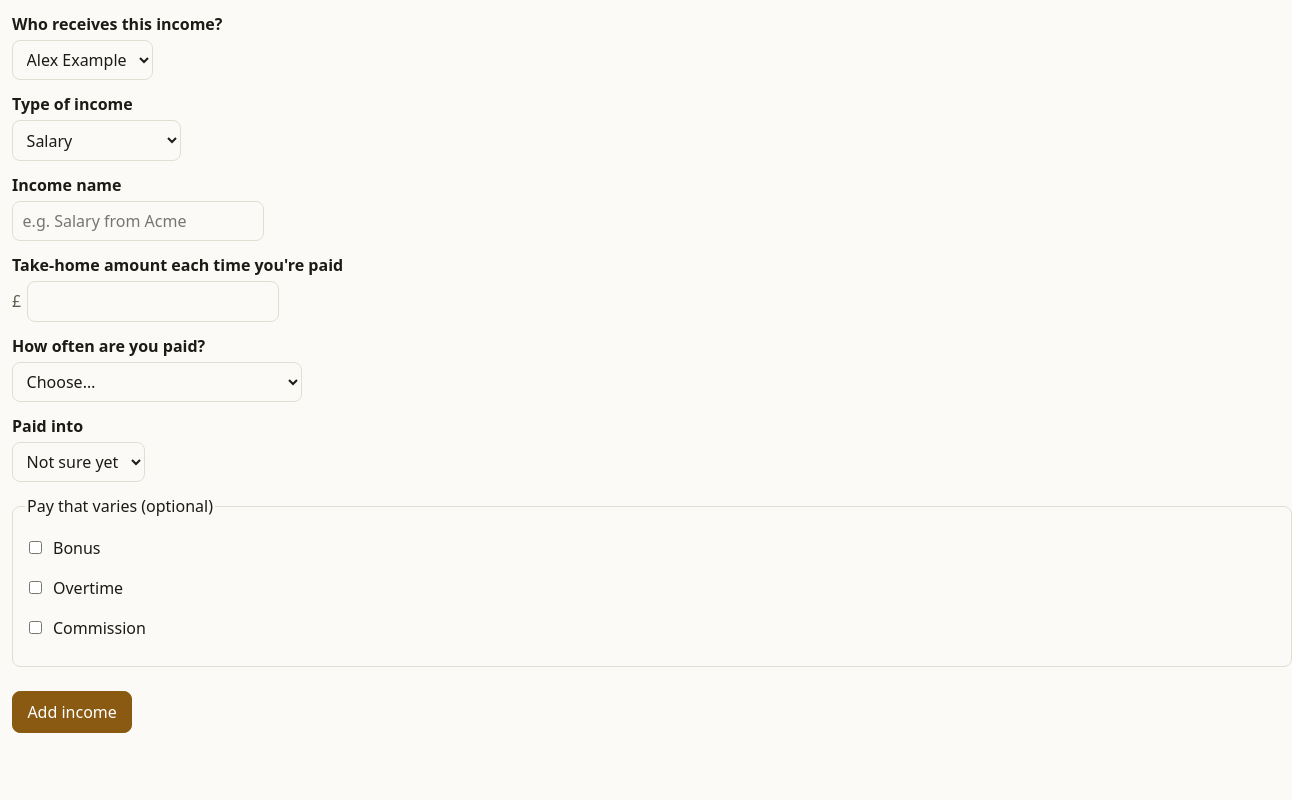
Test: does not send an income with no pay schedule
Type "Salary" into the field labelled "Income name". click: (138,221)
box: [12, 201, 264, 241]
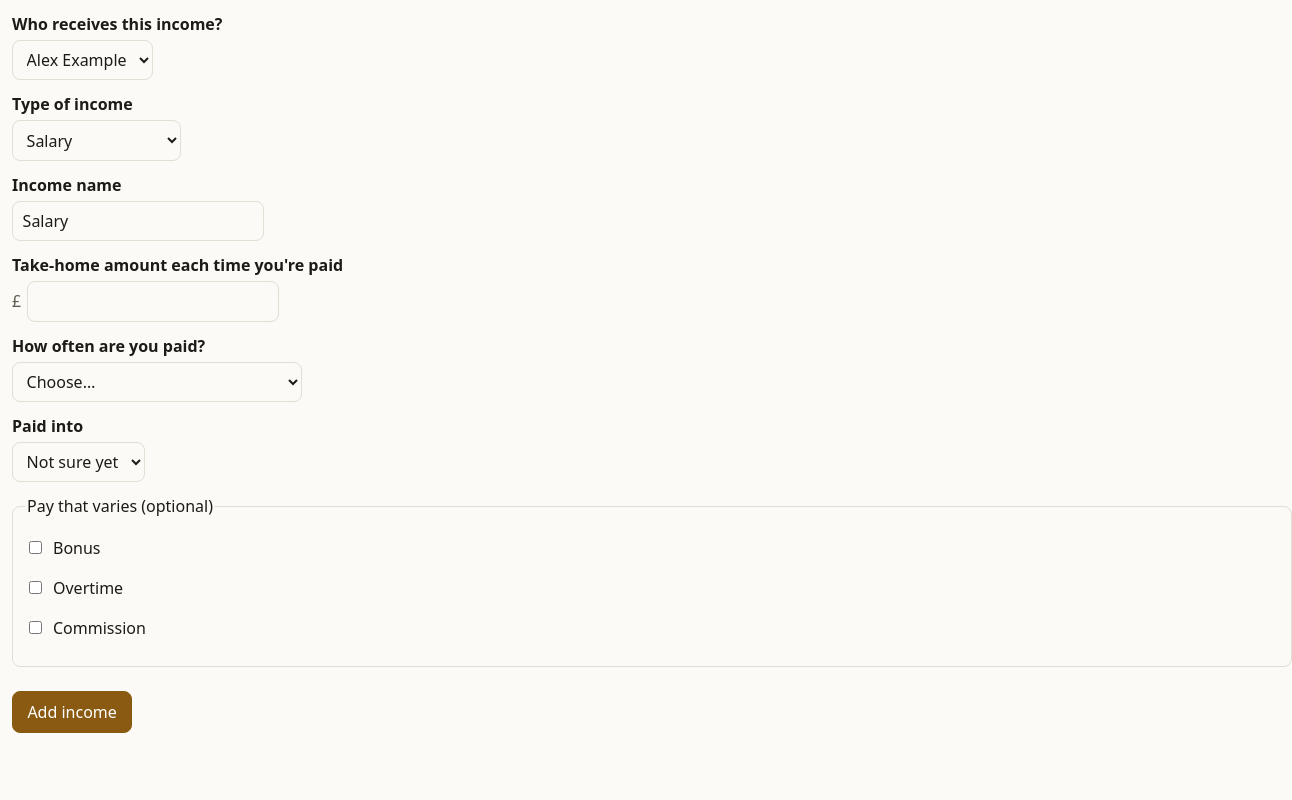
Type "100" into the field labelled "Take-home amount each time you're paid". click: (153,301)
box: [27, 281, 279, 322]
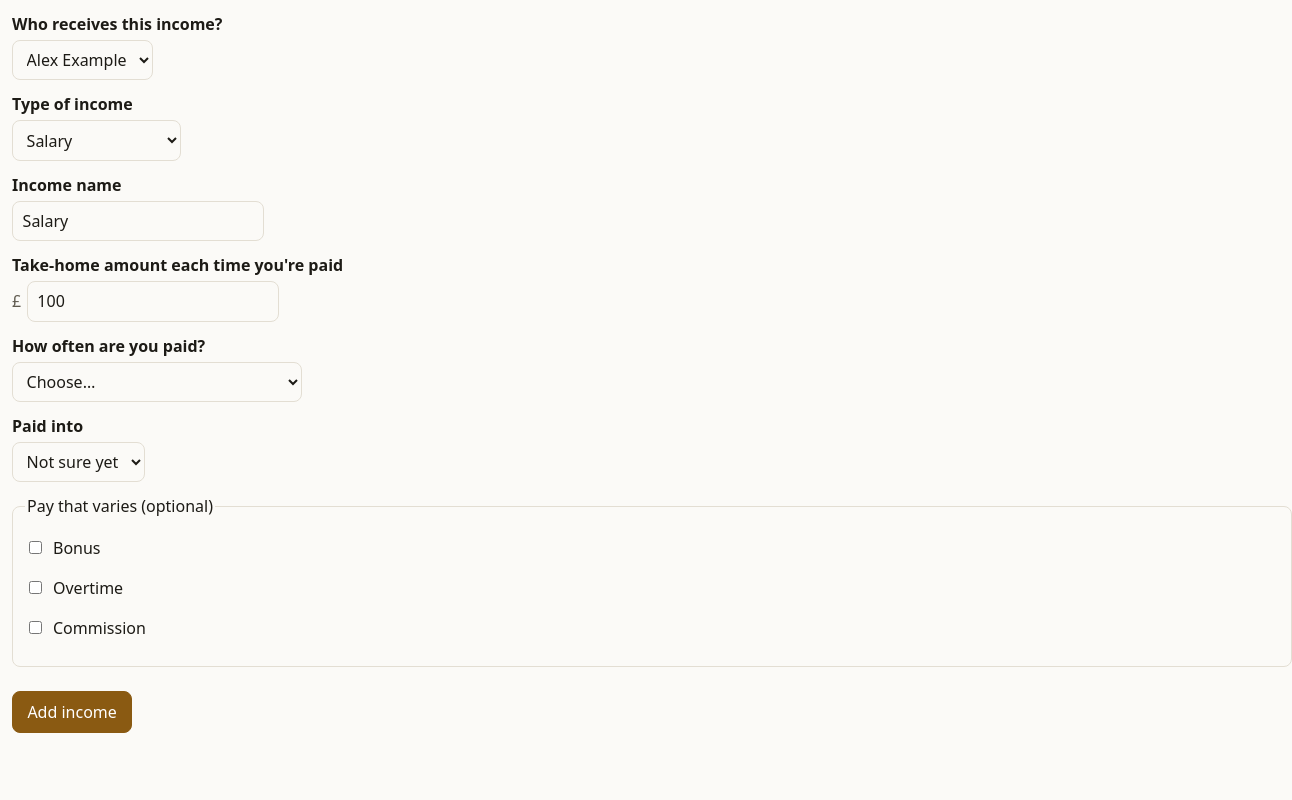
Click the button "Add income". click: (72,712)
box: [12, 691, 132, 733]
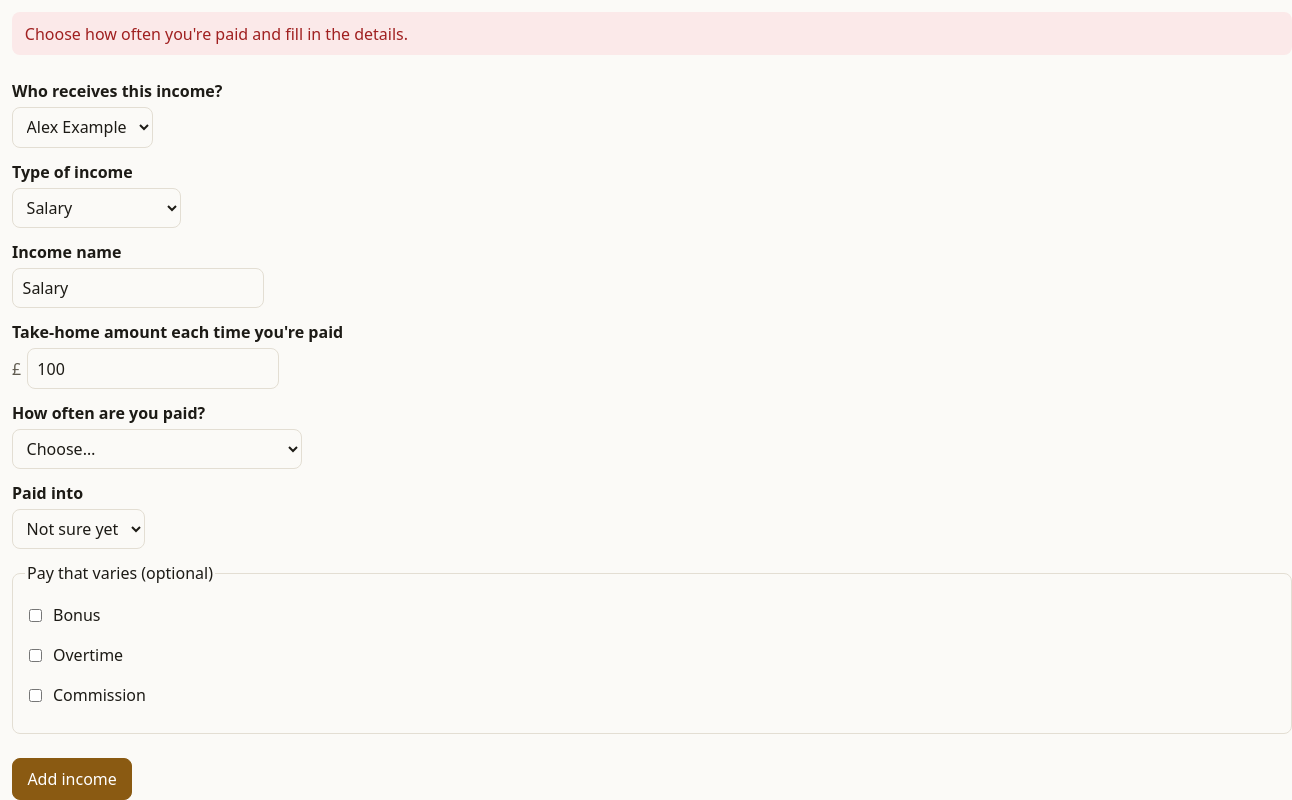
Result: the text "Choose how often you're paid and fill in the details." is shown at [12, 12, 1291, 55]
